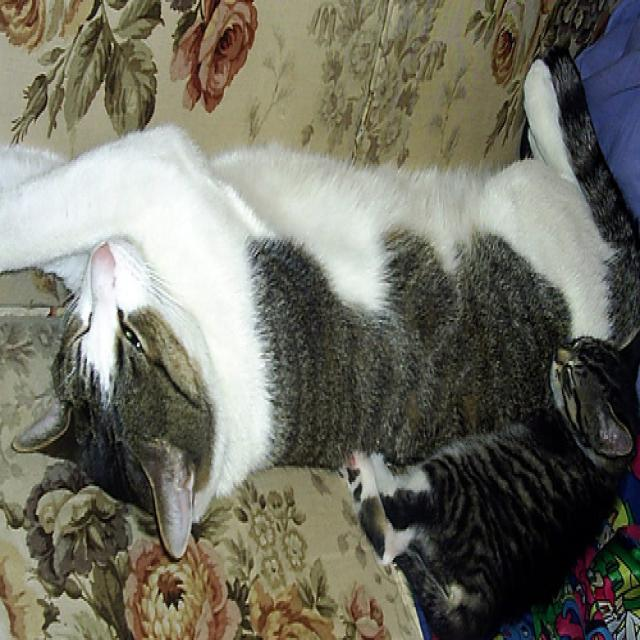cat: (1, 56, 640, 561), (348, 335, 640, 639)
